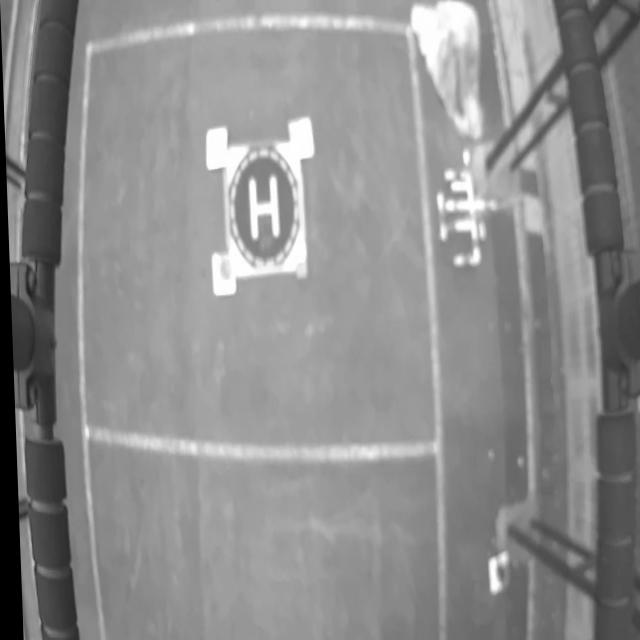Helipad: (247, 176, 279, 240)
